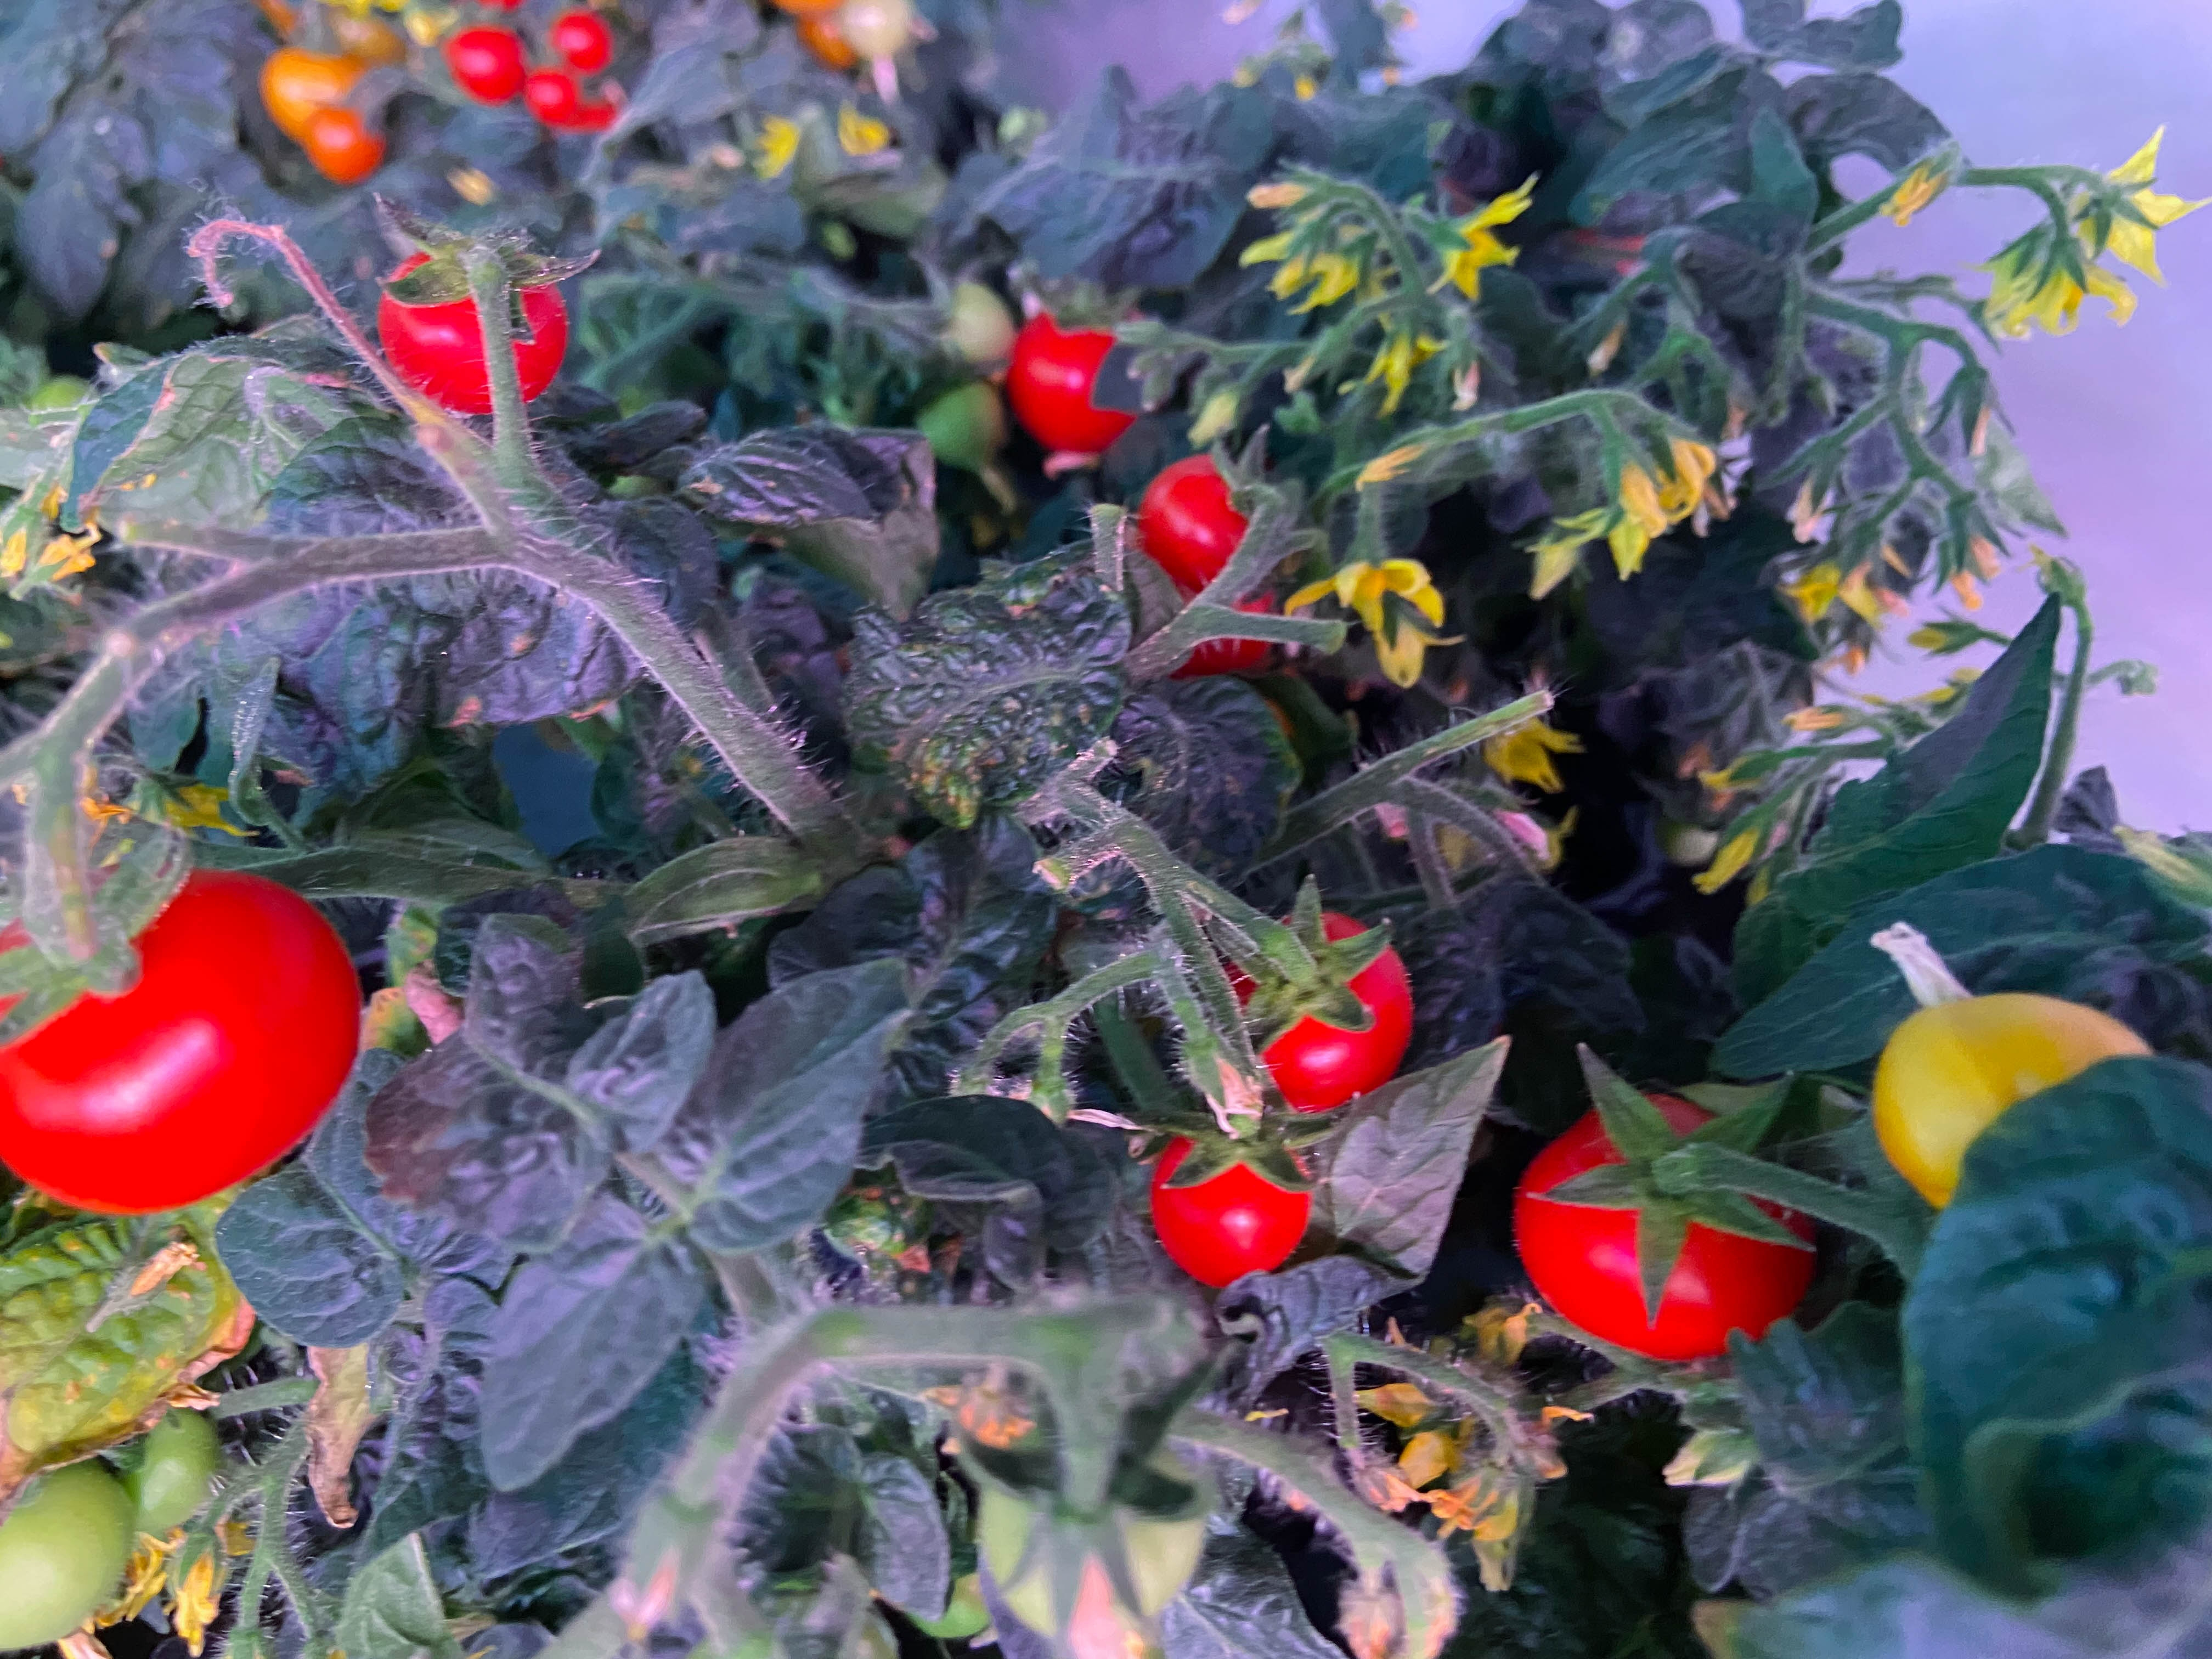green: (986, 1424, 1211, 1649), (2, 1427, 131, 1647), (120, 1398, 223, 1541), (921, 380, 1005, 467), (937, 279, 1015, 366), (848, 0, 925, 47)
red: (0, 850, 361, 1215), (1507, 1086, 1813, 1370), (1865, 983, 2151, 1227), (1231, 911, 1414, 1112), (376, 239, 570, 411), (1151, 1117, 1324, 1286), (1008, 310, 1146, 453), (1134, 451, 1284, 582), (1163, 577, 1282, 688), (265, 44, 366, 132), (529, 26, 613, 106), (444, 24, 526, 105), (300, 112, 383, 183), (526, 64, 611, 132), (543, 10, 615, 75), (792, 9, 862, 73)
